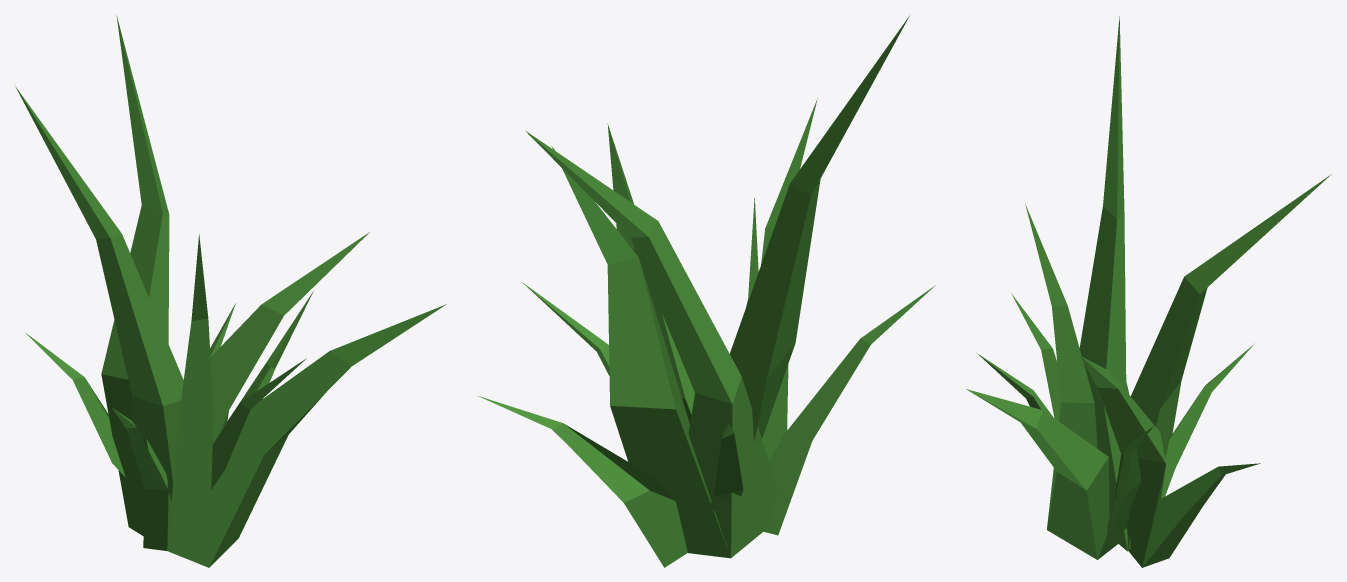
File: PatchOfGrass3.fbx
The picture shows the model from 3 angles, left to right: view 1: azimuth 30°, elevation 25°; view 2: azimuth 150°, elevation 25°; view 3: azimuth 270°, elevation 25°; orthographic projection. The views are drawn at different scales.
Visible parts, largest first — view 1: Cone.013; view 2: Cone.013; view 3: Cone.013.
Part boxes in pixels (box(x1,y1,x2,y2)): Cone.013: box(15, 15, 446, 567); Cone.013: box(478, 15, 935, 567); Cone.013: box(966, 16, 1331, 567).
Bounding box in the file's own units: 8.23 × 11.45 × 8.26.
